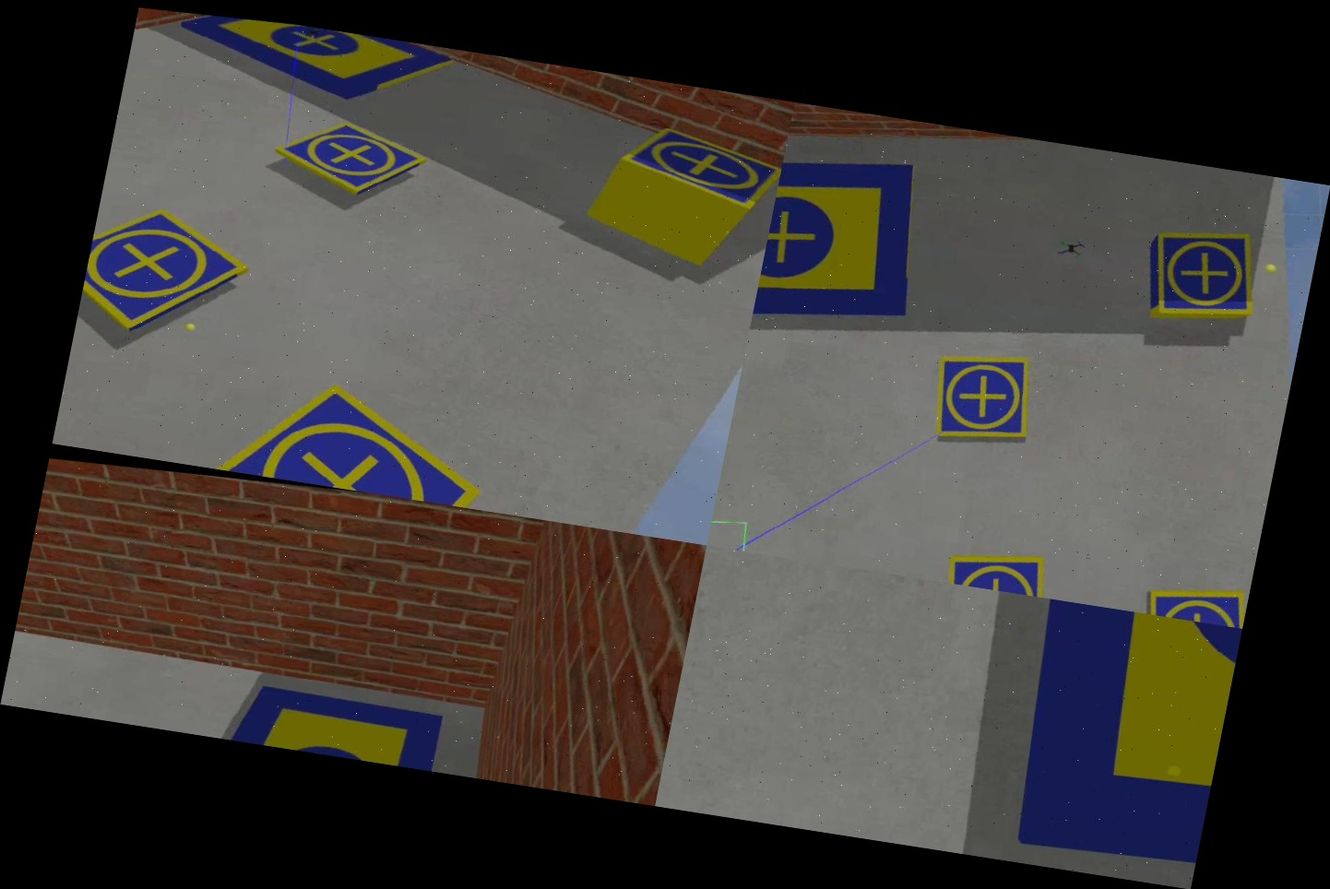large_base: (992, 598, 1241, 868), (749, 146, 940, 355), (168, 6, 463, 124), (164, 662, 457, 773)
small_base: (197, 358, 506, 511), (75, 195, 264, 353), (607, 113, 788, 222), (267, 106, 437, 212), (1138, 214, 1269, 330), (923, 344, 1044, 454), (944, 544, 1055, 599), (1143, 575, 1249, 629)
